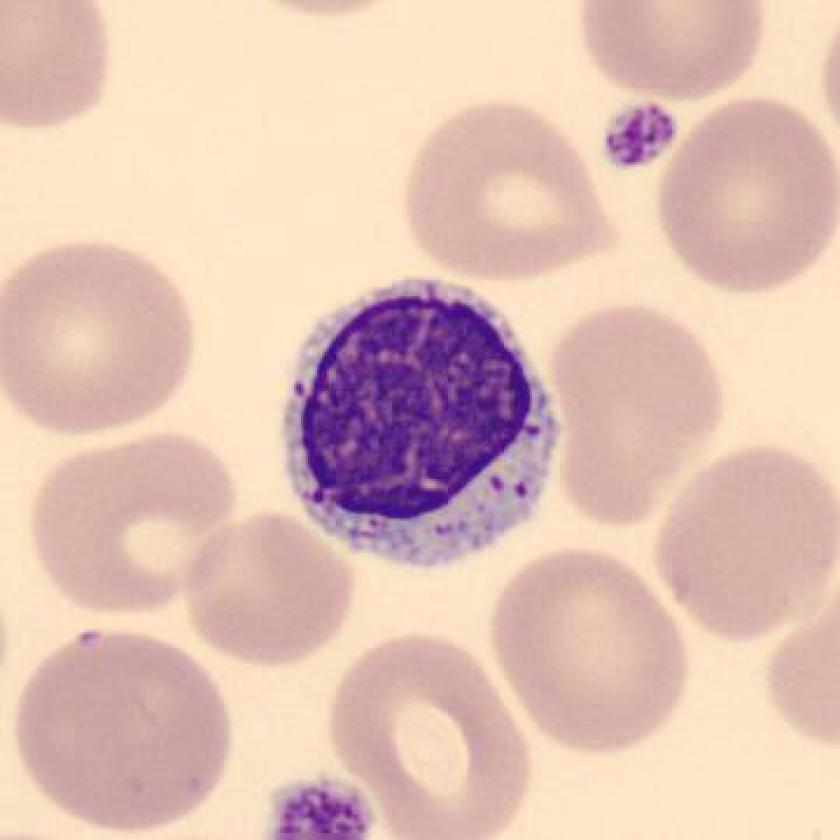lymphocyte: (262, 265, 580, 579)
